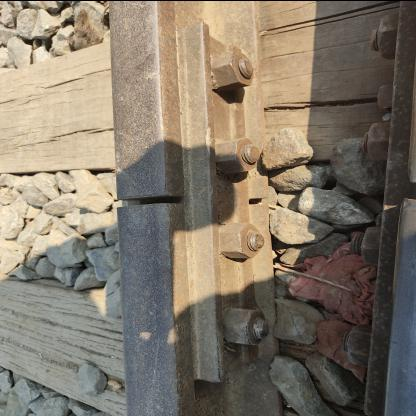Non Defective: (178, 1, 302, 385), (106, 146, 206, 236)
